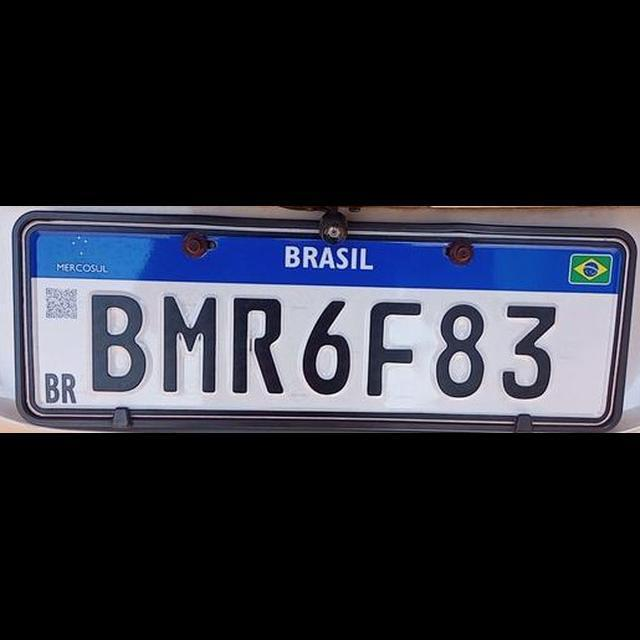Caractere: (364, 296, 424, 400), (89, 290, 147, 394), (162, 291, 218, 394), (230, 294, 286, 396), (298, 296, 350, 396), (437, 300, 488, 400), (504, 300, 554, 402)
Placa: (14, 212, 626, 428)
